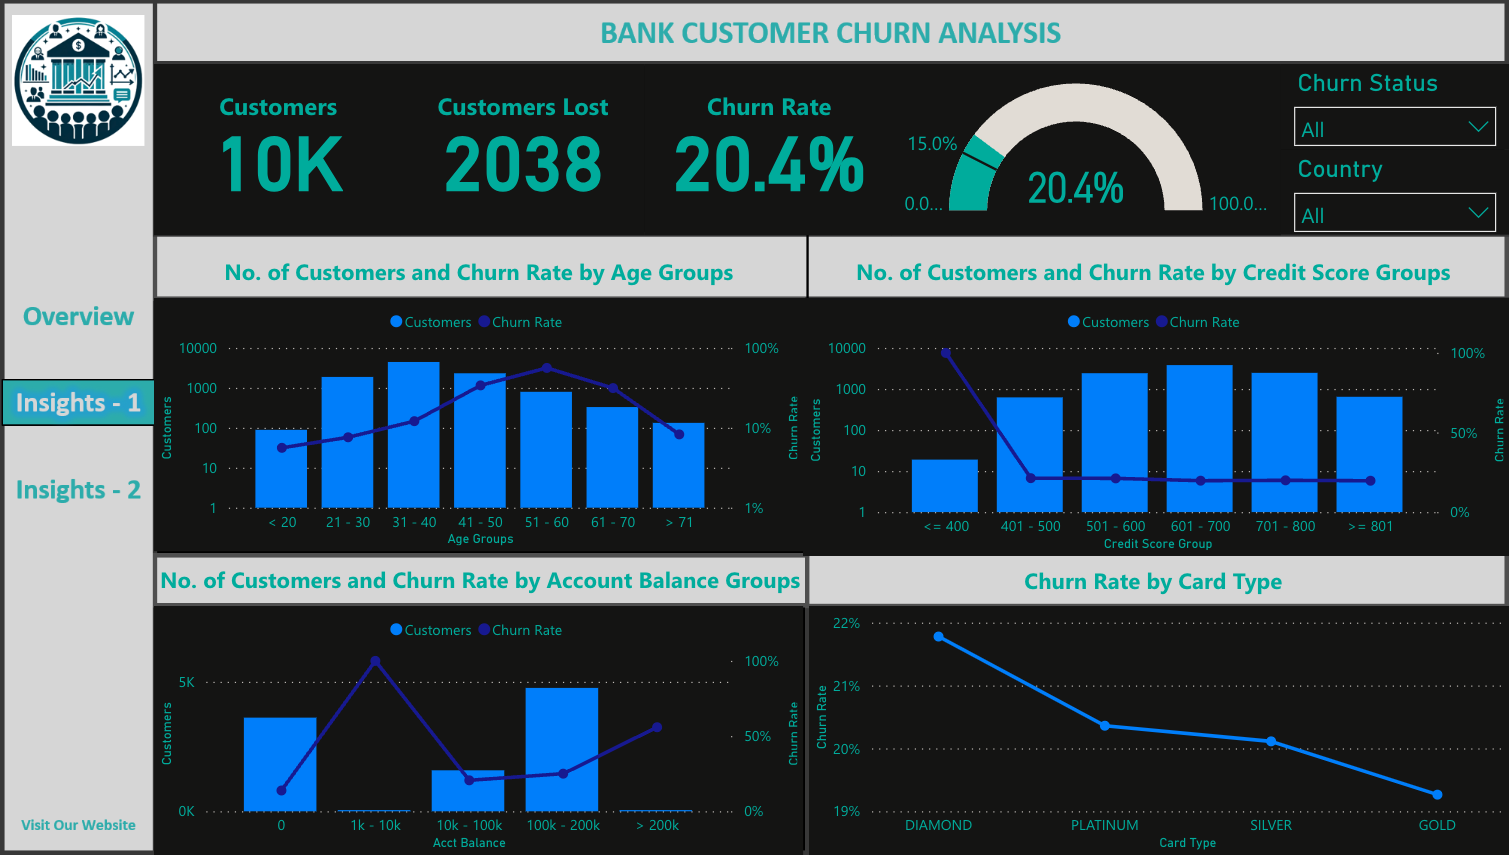

This screenshot's page, from the dashboard's own definition file:
{"tool":"powerbi","page":{"name":"Insights-1","canvas":[1280,720],"ordinal":1},"visuals":[{"type":"cardVisual","fields":{"Data":["Customer Data.Customers Lost"]},"box":[346.6,54.3,206,144.3],"z":0},{"type":"cardVisual","fields":{"Data":["Customer Data.Churn Rate"]},"box":[552.6,54.3,207.2,144.3],"z":1000},{"type":"gauge","fields":{"Y":["Customer Data.Churn Rate"],"MinValue":["Min(Customer Data.Min Churn Rate)"],"MaxValue":["Max(Customer Data.Max Churn Rate)"],"TargetValue":["Max(Customer Data.Target Churn Rate)"]},"box":[759.8,54.3,328.1,144.3],"z":2000},{"type":"cardVisual","fields":{"Data":["Customer Data.Customers"]},"box":[139.4,54.3,207.2,144.3],"z":3000},{"type":"slicer","fields":{"Values":["Customer Data.Churn Status"]},"box":[1087.8,54.3,191.8,72.4],"z":4000},{"type":"slicer","fields":{"Values":["Customer Data.Country"]},"box":[1087.8,126.6,191.8,71.2],"z":5000},{"type":"lineClusteredColumnComboChart","fields":{"Category":["Age Groups.Age Groups"],"Y":["Customer Data.Customers"],"Y2":["Customer Data.Churn Rate"]},"box":[139.4,251.6,546.4,213.4],"z":6000},{"type":"lineClusteredColumnComboChart","fields":{"Y":["Customer Data.Customers"],"Y2":["Customer Data.Churn Rate"],"Category":["Credit Score Groups.Credit Score Group"]},"box":[685.5,251.6,594.5,217.1],"z":7000},{"type":"lineClusteredColumnComboChart","fields":{"Y":["Customer Data.Customers"],"Y2":["Customer Data.Churn Rate"],"Category":["Acct Balance Groups.Acct Balance"]},"box":[139.4,510.3,546.4,209.7],"z":8000},{"type":"lineClusteredColumnComboChart","fields":{"Y2":["Customer Data.Churn Rate"],"Category":["Customer Data.Card Type"]},"box":[690.4,510.3,589.6,209.7],"z":9000},{"type":"textbox","box":[139.9,211.1,546.3,41],"z":10000},{"type":"textbox","box":[685.5,210.9,594.5,40.7],"z":11000},{"type":"textbox","box":[685.5,471.1,594.5,40.7],"z":12000},{"type":"textbox","box":[139.9,470.4,551.2,53.1],"z":13000},{"type":"actionButton","box":[8.4,674.2,125.4,39.8],"z":14000},{"type":"actionButton","box":[14.5,248.4,125.4,39.8],"z":15000},{"type":"actionButton","box":[14.5,393.2,125.4,39.8],"z":16000}]}

Visuals, with their boxes in screenshot pixels (x1, y1, x2, y2), scaled from the page's 1280x720 canvas onto the 1509x855 screenshot:
cardVisual - Customer Data.Customers Lost: {"x1": 409, "y1": 64, "x2": 651, "y2": 236}
cardVisual - Customer Data.Churn Rate: {"x1": 651, "y1": 64, "x2": 896, "y2": 236}
gauge - Customer Data.Churn Rate x Min(Customer Data.Min Churn Rate): {"x1": 896, "y1": 64, "x2": 1283, "y2": 236}
cardVisual - Customer Data.Customers: {"x1": 164, "y1": 64, "x2": 409, "y2": 236}
slicer - Customer Data.Churn Status: {"x1": 1282, "y1": 64, "x2": 1508, "y2": 150}
slicer - Customer Data.Country: {"x1": 1282, "y1": 150, "x2": 1508, "y2": 235}
lineClusteredColumnComboChart - Age Groups.Age Groups x Customer Data.Customers: {"x1": 164, "y1": 299, "x2": 808, "y2": 552}
lineClusteredColumnComboChart - Customer Data.Customers x Customer Data.Churn Rate: {"x1": 808, "y1": 299, "x2": 1508, "y2": 557}
lineClusteredColumnComboChart - Customer Data.Customers x Customer Data.Churn Rate: {"x1": 164, "y1": 606, "x2": 808, "y2": 854}
lineClusteredColumnComboChart - Customer Data.Churn Rate x Customer Data.Card Type: {"x1": 814, "y1": 606, "x2": 1508, "y2": 854}
textbox: {"x1": 165, "y1": 251, "x2": 809, "y2": 299}
textbox: {"x1": 808, "y1": 250, "x2": 1508, "y2": 299}
textbox: {"x1": 808, "y1": 559, "x2": 1508, "y2": 608}
textbox: {"x1": 165, "y1": 559, "x2": 815, "y2": 622}
actionButton: {"x1": 10, "y1": 801, "x2": 158, "y2": 848}
actionButton: {"x1": 17, "y1": 295, "x2": 165, "y2": 342}
actionButton: {"x1": 17, "y1": 467, "x2": 165, "y2": 514}
